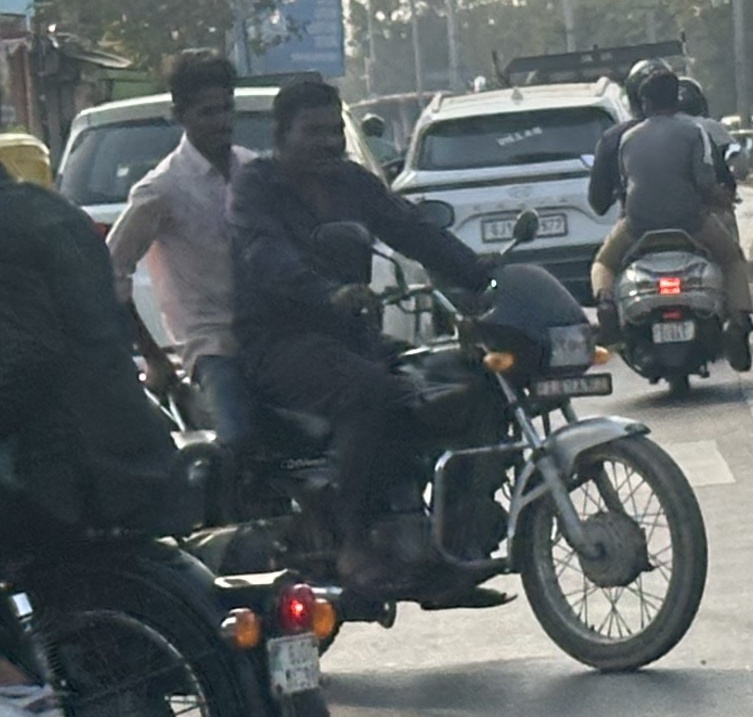BikeWithRider: (43, 45, 723, 677), (572, 44, 753, 406)
Helmet: (620, 53, 670, 117)
NoHelmet: (267, 78, 359, 184), (167, 45, 236, 159), (659, 76, 709, 124), (637, 68, 676, 121)
